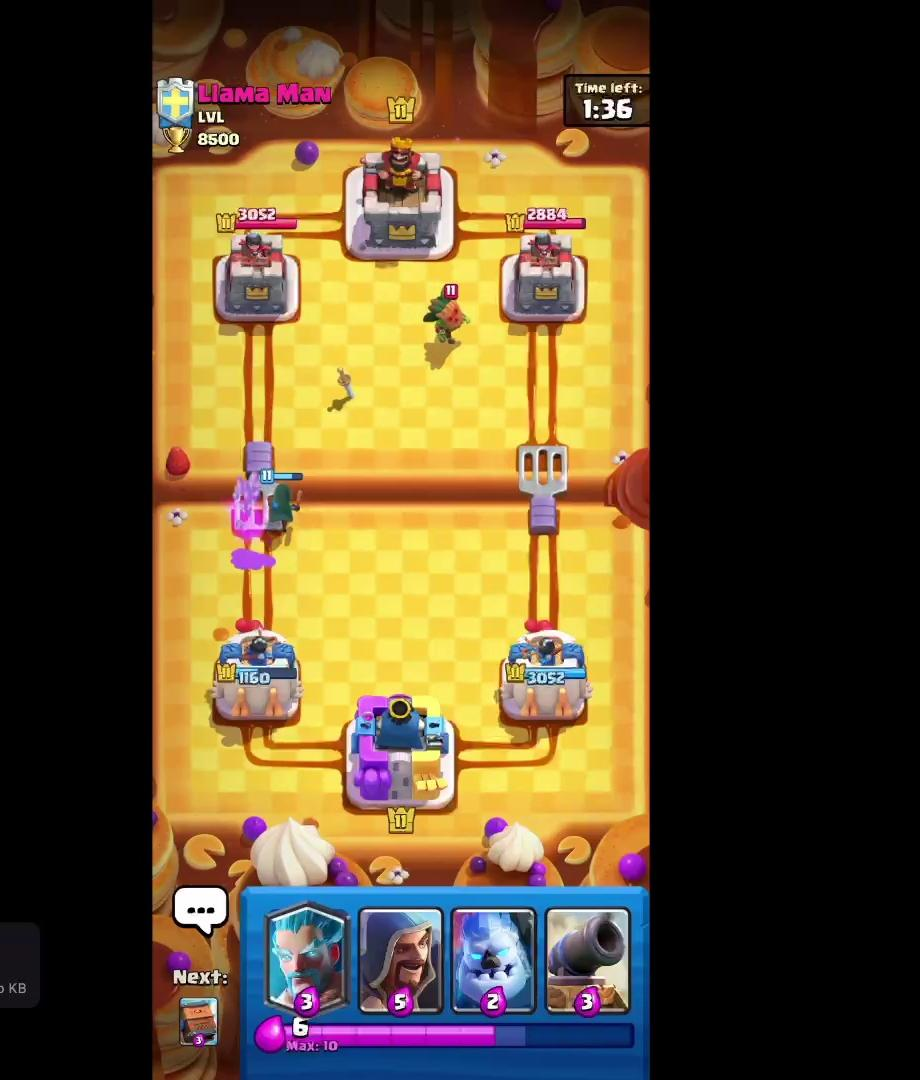Dart Goblin: (410, 277, 486, 359)
